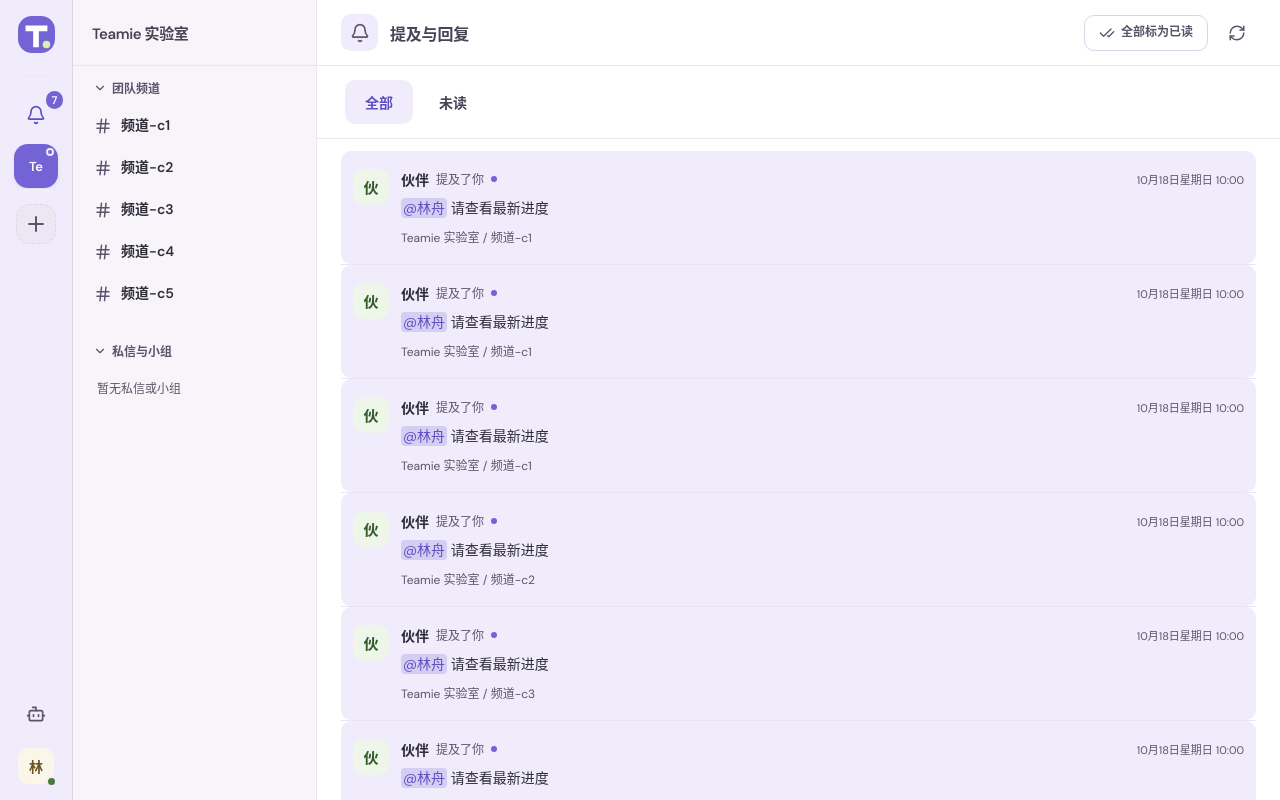
Test case: PR-7 inbox batch mark-all-read and opt-in in-tab notifications › pages unreadOnly=true (limit=100), marks max seq per conversation with concurrency<=4, and retries partial failures
This screenshot has width=1280, height=800.
Click the button with class "attention-mark-all-read" at [1146, 32], box [1084,14,1208,50]
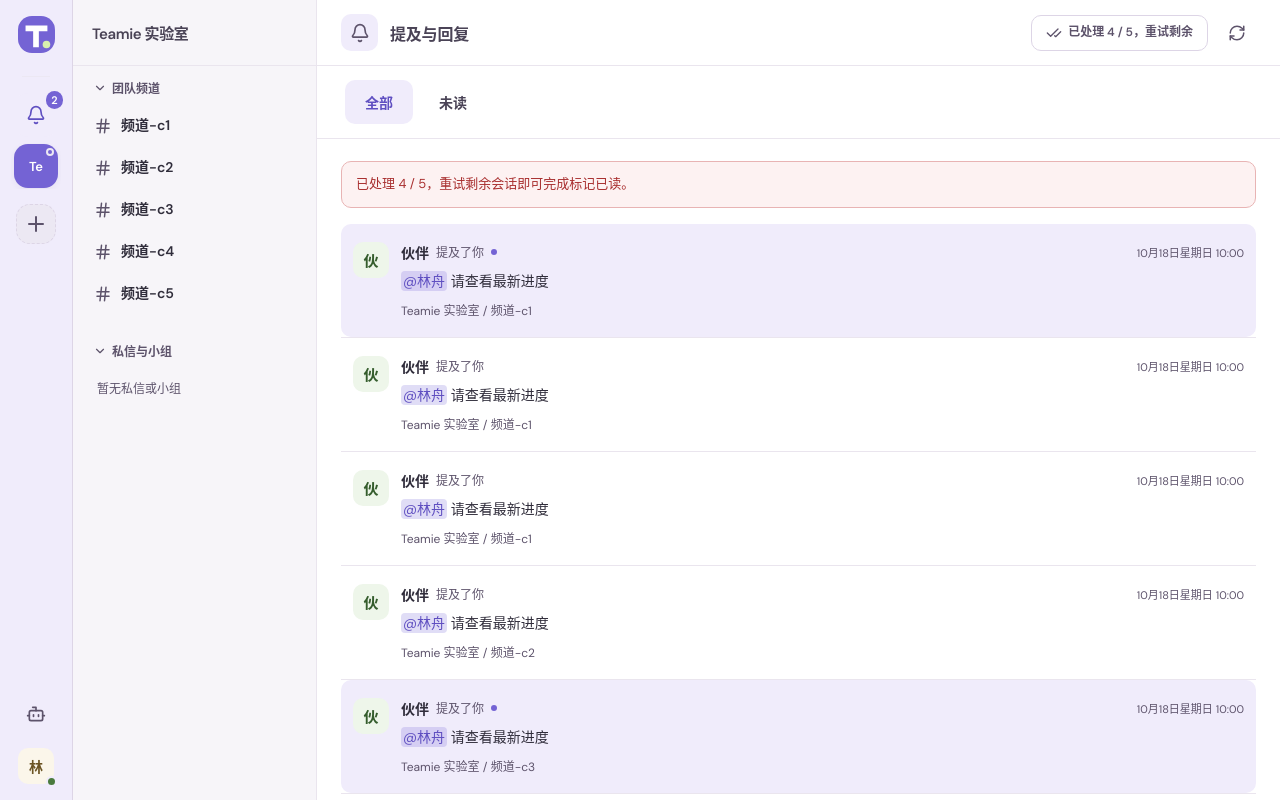
Now the button with class "attention-mark-all-read" reads "已处理 4 / 5，重试剩余"
Click the button with class "attention-mark-all-read" at [1120, 32], box [1031,14,1208,50]
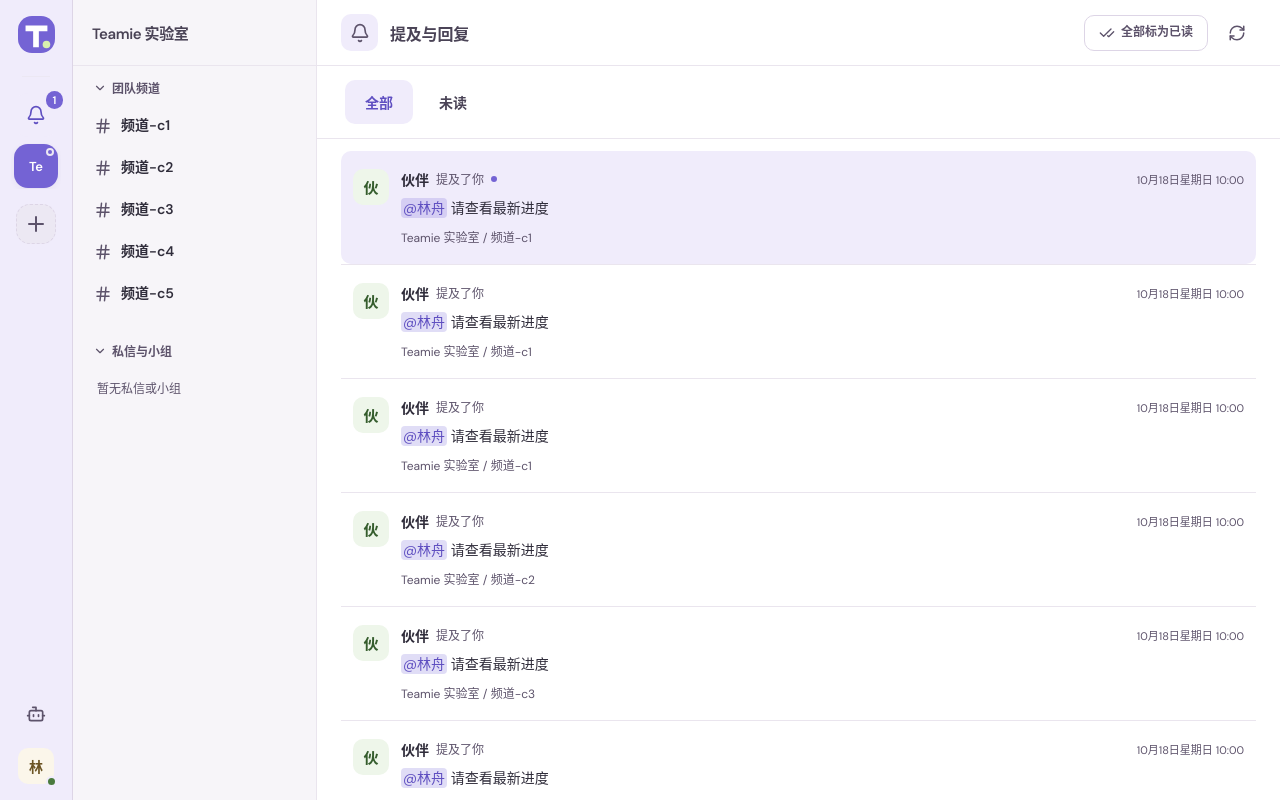
Now the button with class "attention-mark-all-read" reads "全部标为已读", box [1084,14,1208,50]
